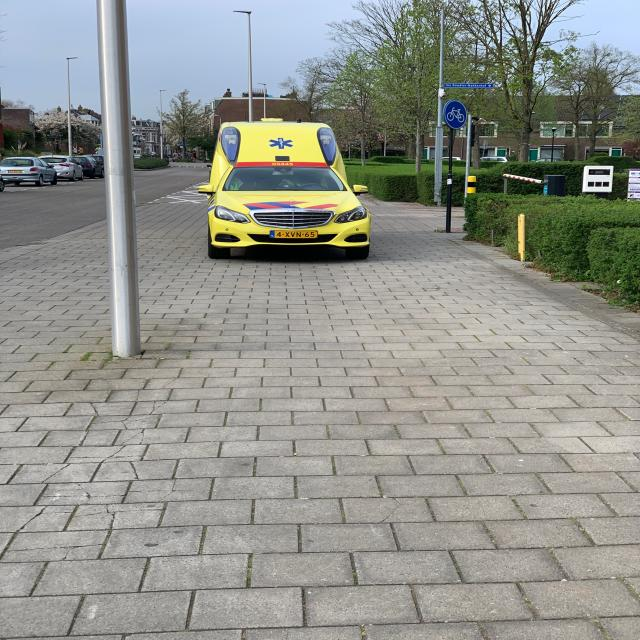plate: (269, 229, 319, 239)
